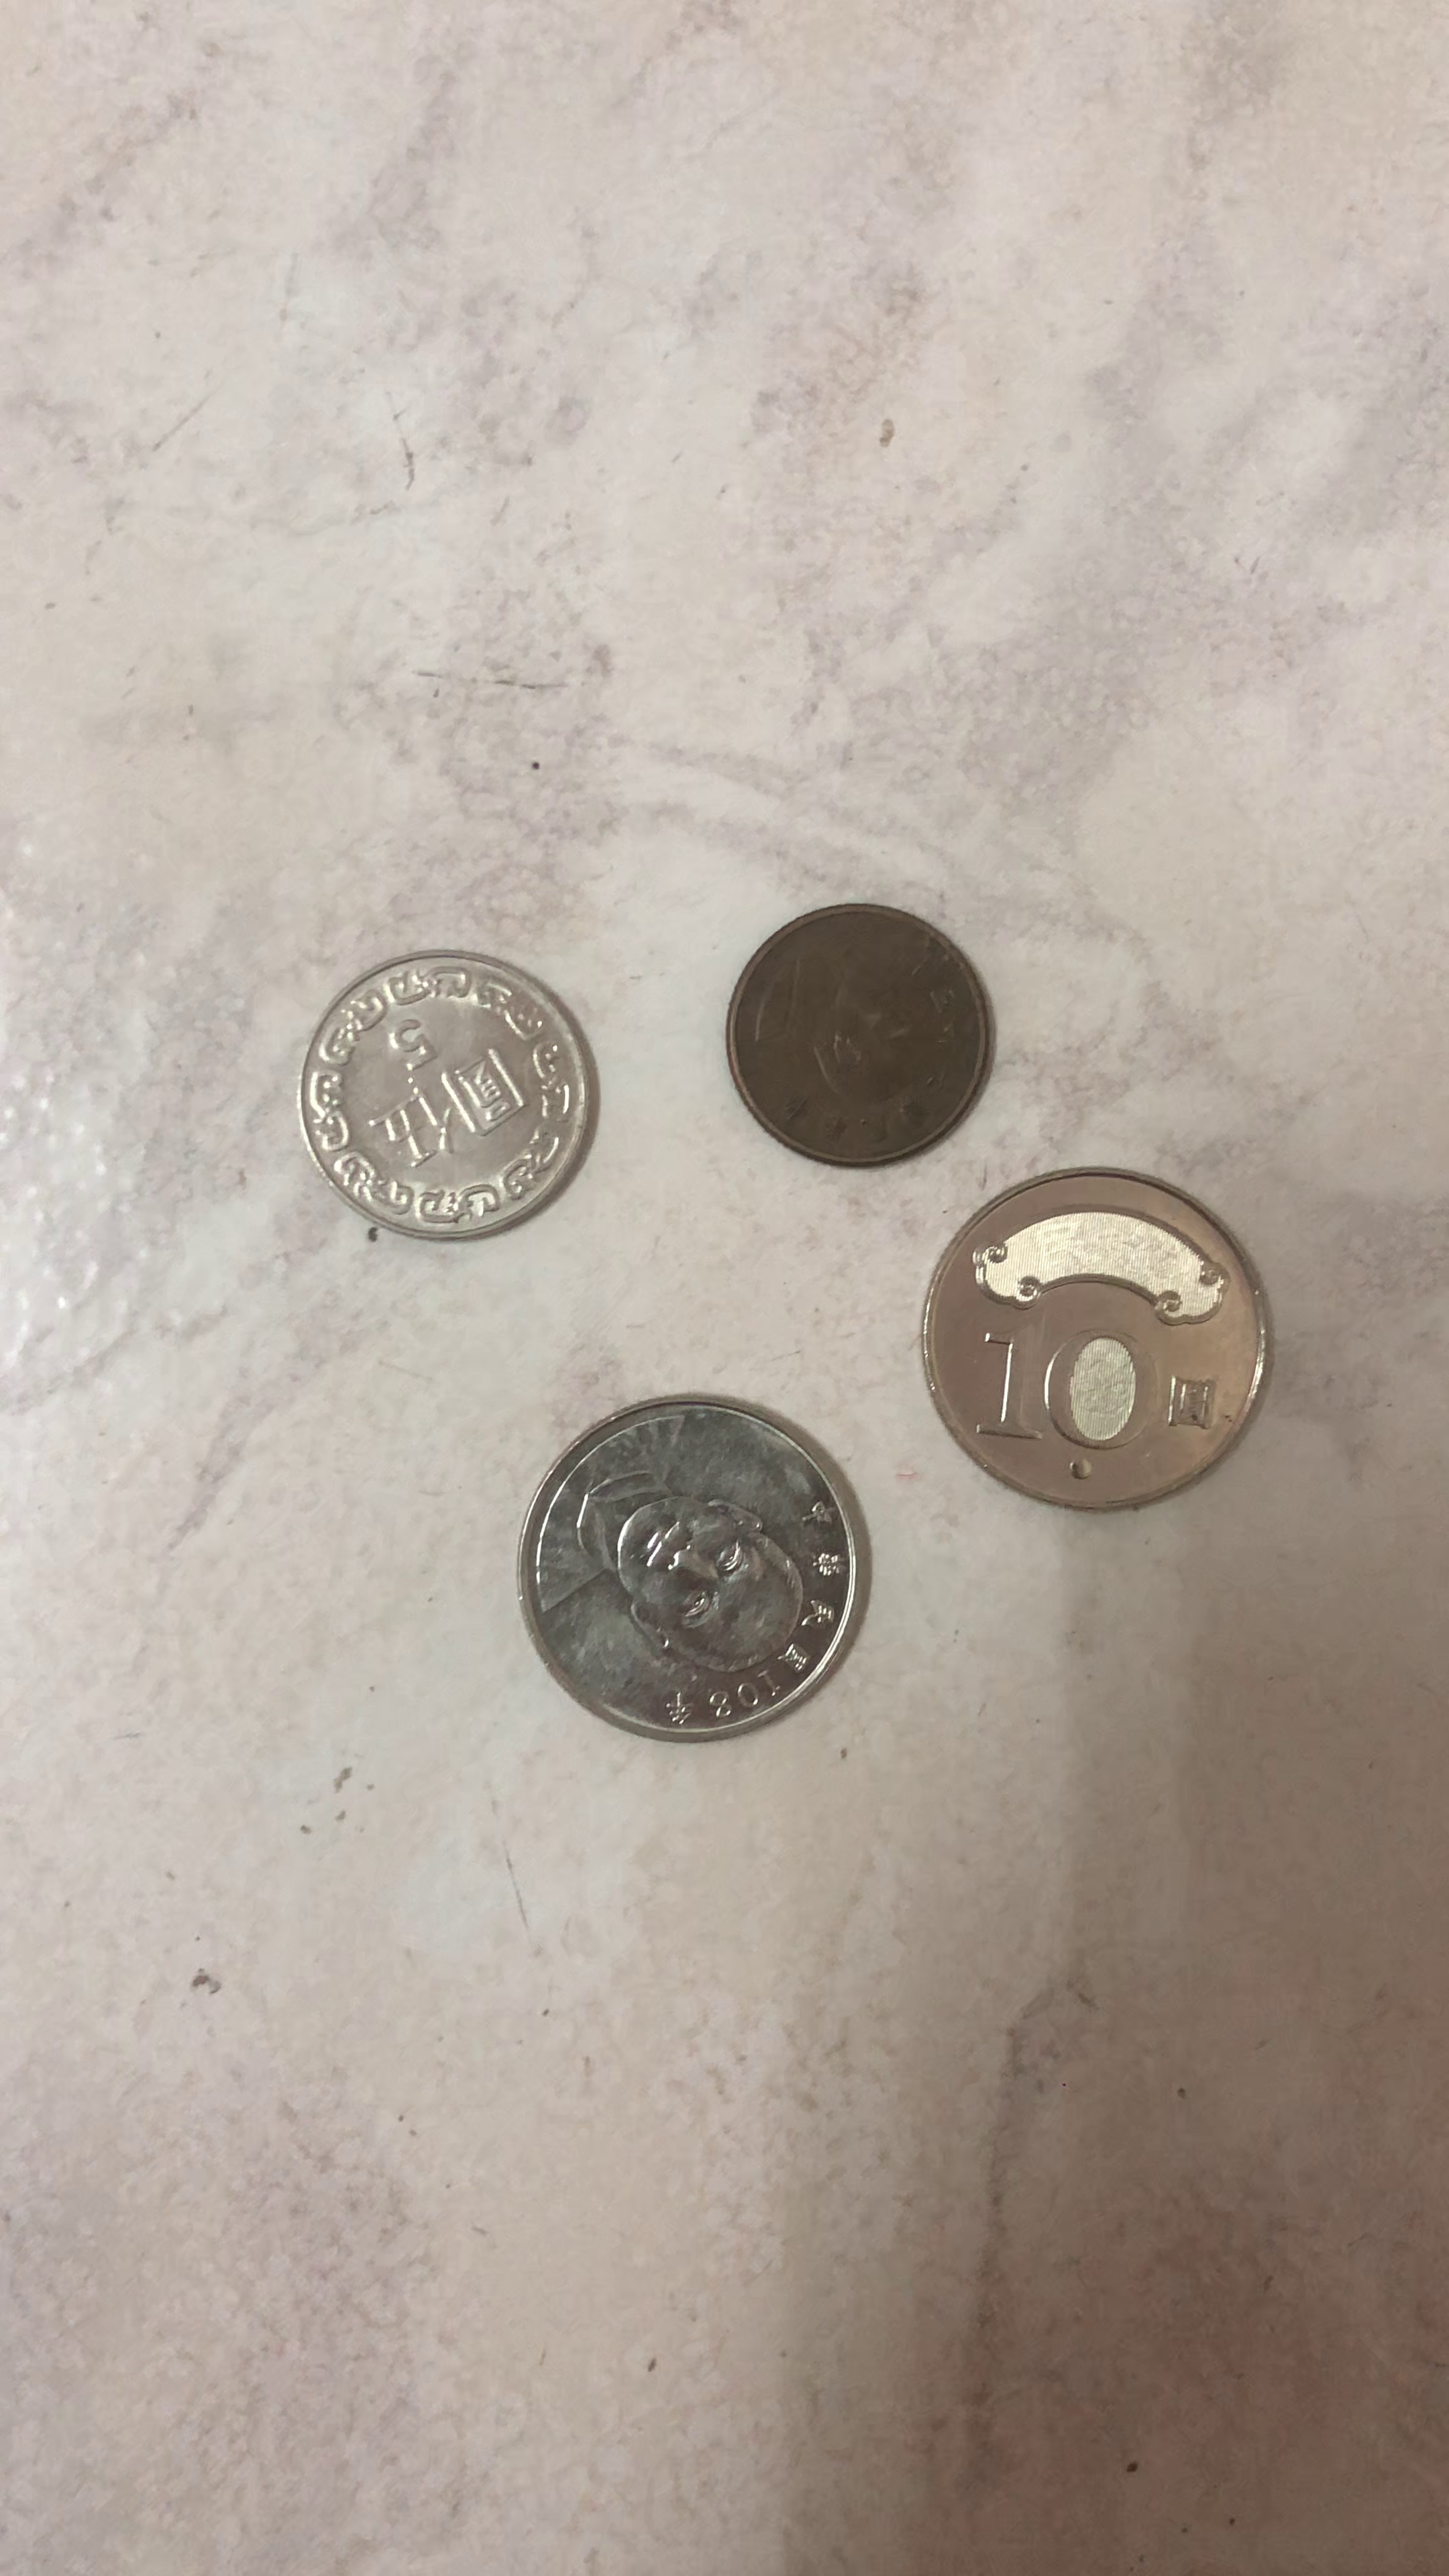1 dallar: (702, 885, 1021, 1175)
10 dallar: (494, 1369, 902, 1757), (906, 1159, 1302, 1532)
5 dallar: (278, 938, 616, 1254)
